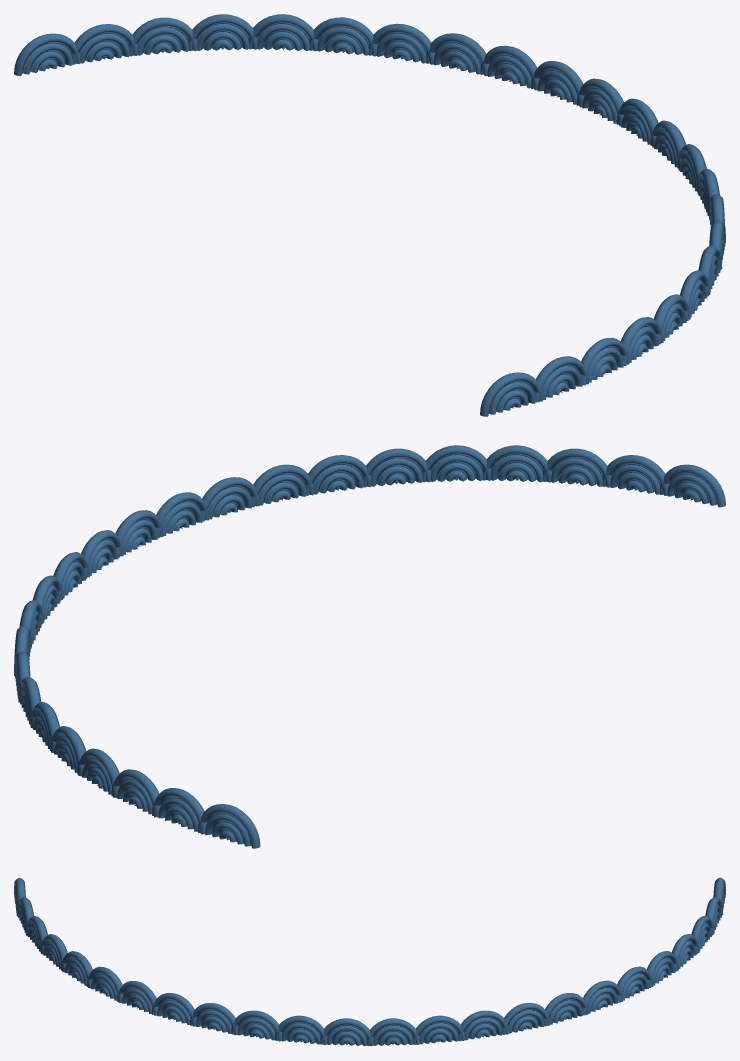
Rendered from wave2.fbx.
3 views of the same model, one above another, from view 1: azimuth 30°, elevation 25°; view 2: azimuth 150°, elevation 25°; view 3: azimuth 270°, elevation 25° (orthographic). The views are drawn at different scales.
Visible parts, largest first — view 1: Wave24_1; view 2: Wave24_1; view 3: Wave24_1.
Boxes of the visible parts, x1,y1,x2,y2 form: Wave24_1: (14, 14, 725, 416); Wave24_1: (14, 445, 725, 848); Wave24_1: (14, 877, 725, 1046).
Bounding box in the file's own units: 446 × 34.44 × 877.
